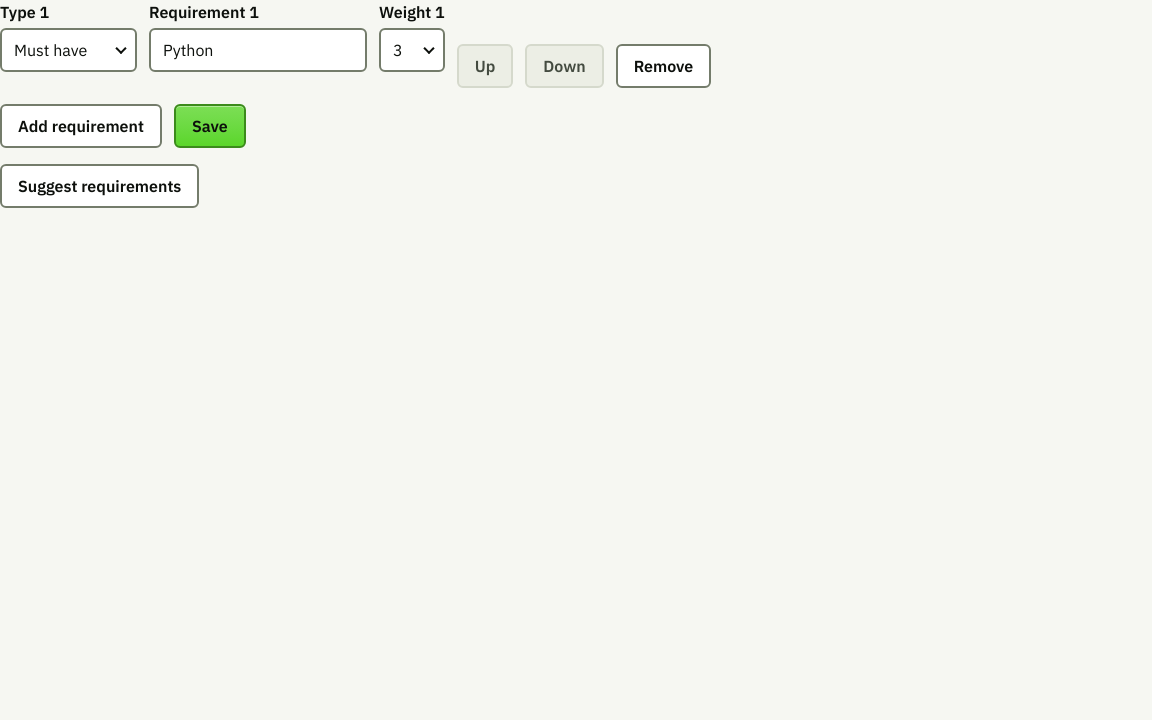
Scenario: requirement editor › flags near-duplicates after saving
Check: the field showing "Python" is shown, box [149,28,367,72]
Click the button "Save" at (210, 126), box [174,104,246,148]
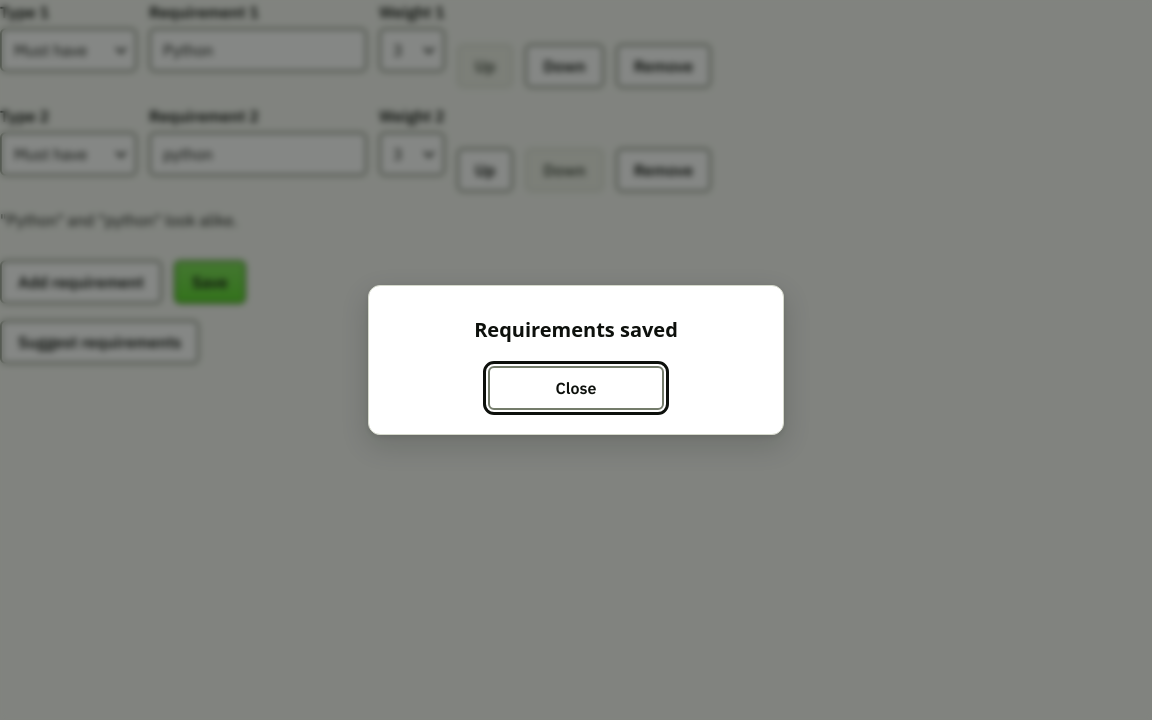
Check: the text "\"Python\" and \"python\" look alike." is shown, box [0,210,237,230]
